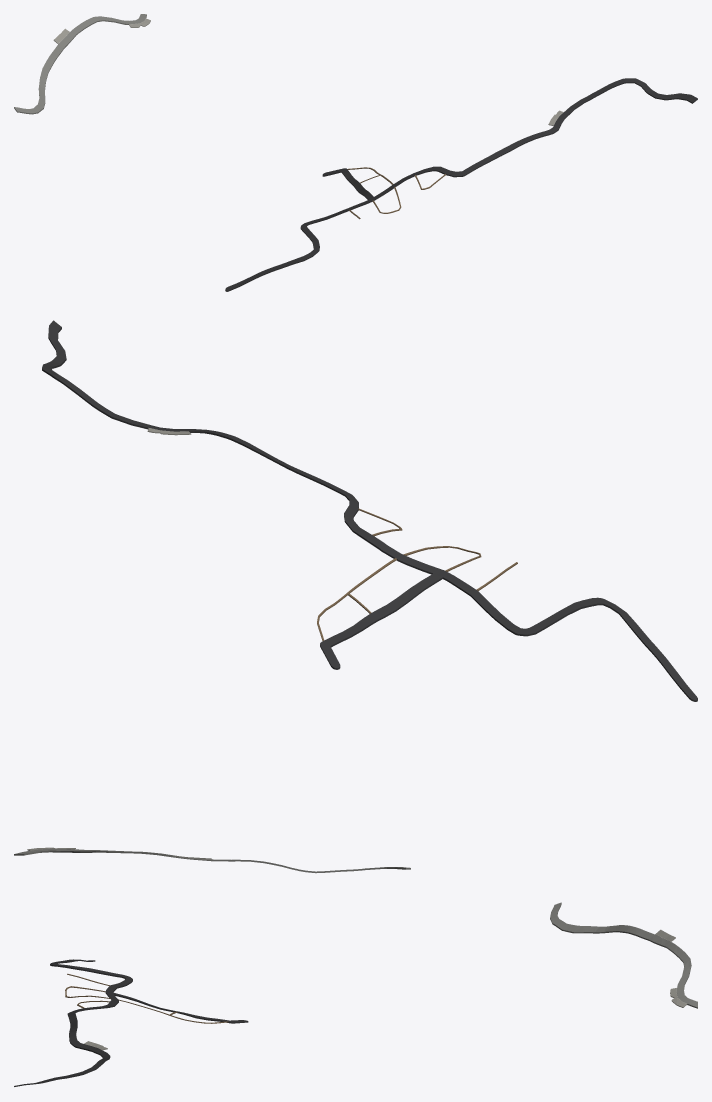
3 renders of one model, top to bottom at view 1: azimuth 30°, elevation 25°; view 2: azimuth 150°, elevation 25°; view 3: azimuth 270°, elevation 25°, orthographic. The views are drawn at different scales.
Bounding box in the file's own units: 530 × 124 × 583.
